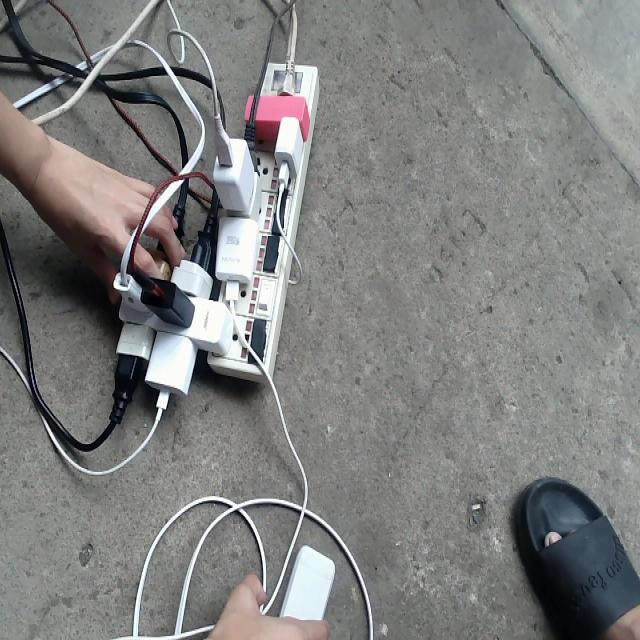-: (113, 60, 320, 401)
